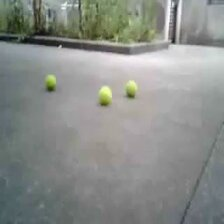tennis: (98, 86, 112, 105), (125, 81, 138, 97), (44, 74, 56, 90)
